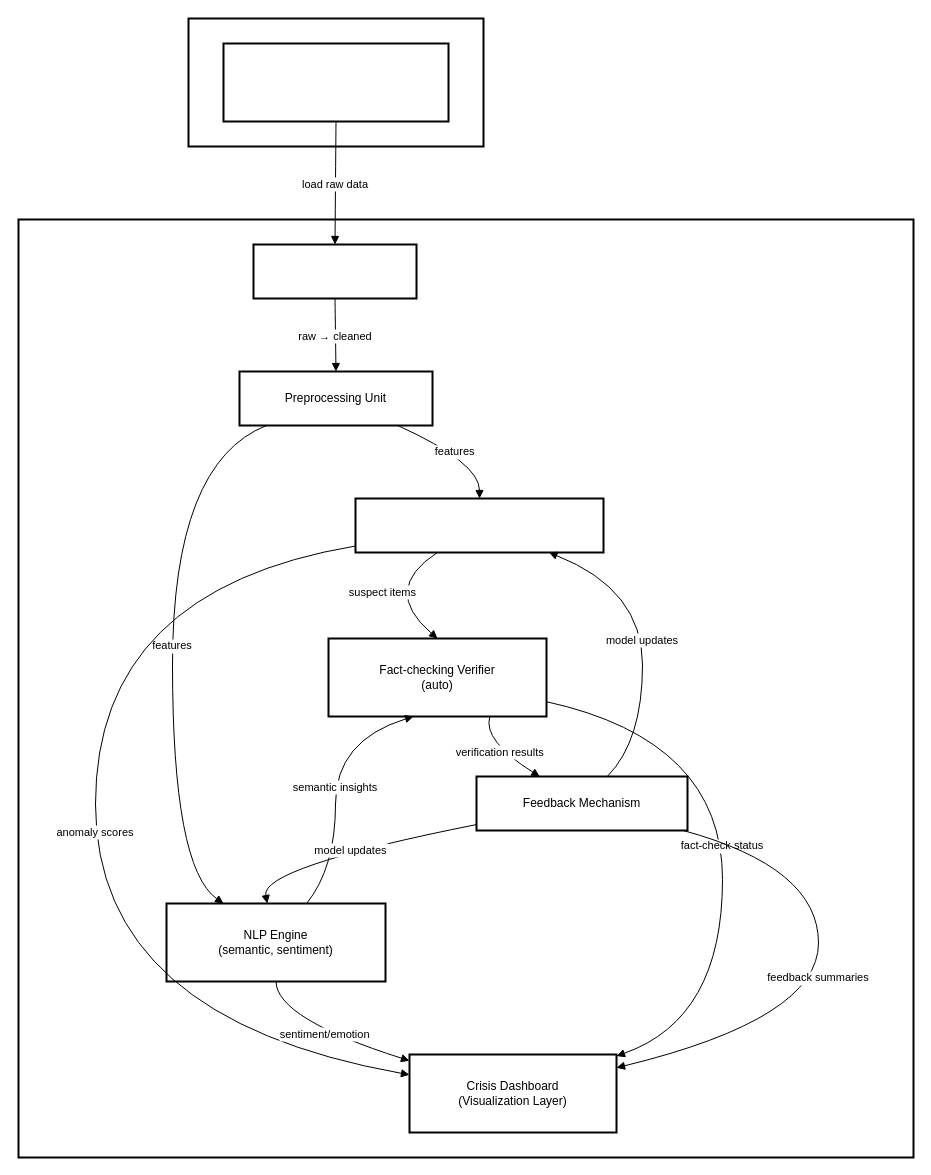
Image size: 931x1175. Some labels were removed from this diagram. Here are the shapes that lost their labels. From the top down, the centre of each, then its label:
(335,82): Static CSV Dataset (time‑stamped tweets)
(334,271): Data Collector
(479,525): Anomaly Detection Engine
